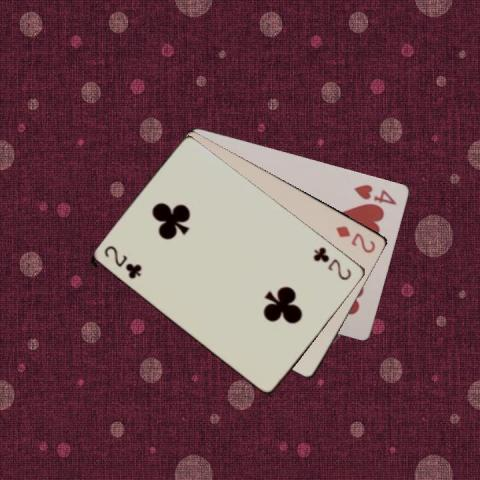2c: (310, 243, 353, 282), (101, 243, 143, 281)
2d: (333, 222, 377, 255)
4h: (351, 181, 399, 207)
